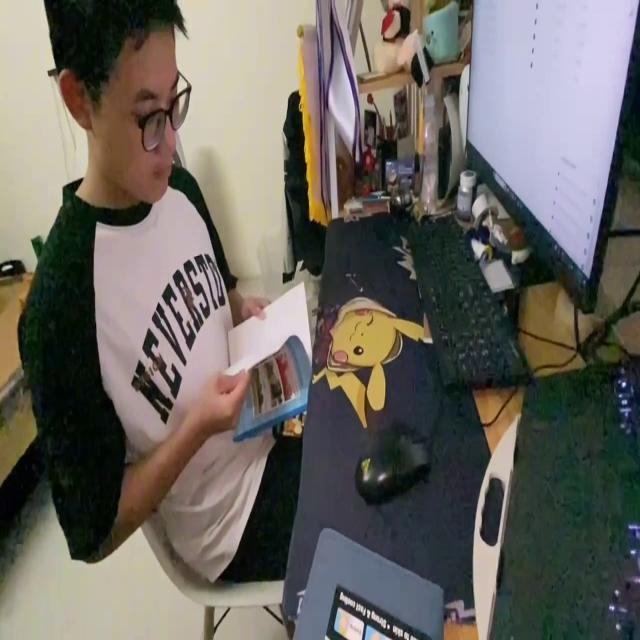book: (218, 281, 317, 437)
laptop: (462, 7, 640, 307)
student: (15, 0, 304, 583)
